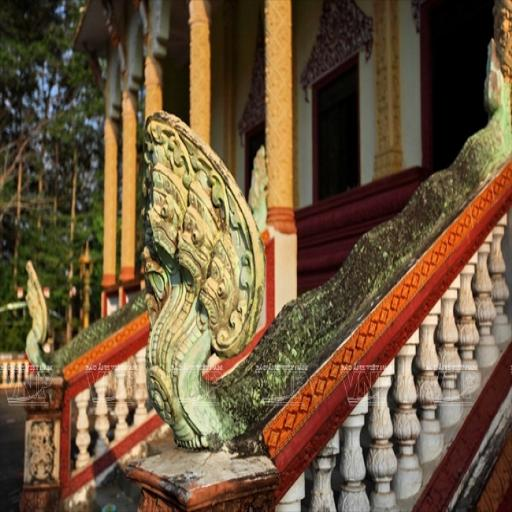ran: (139, 132, 261, 450), (22, 264, 50, 372)
